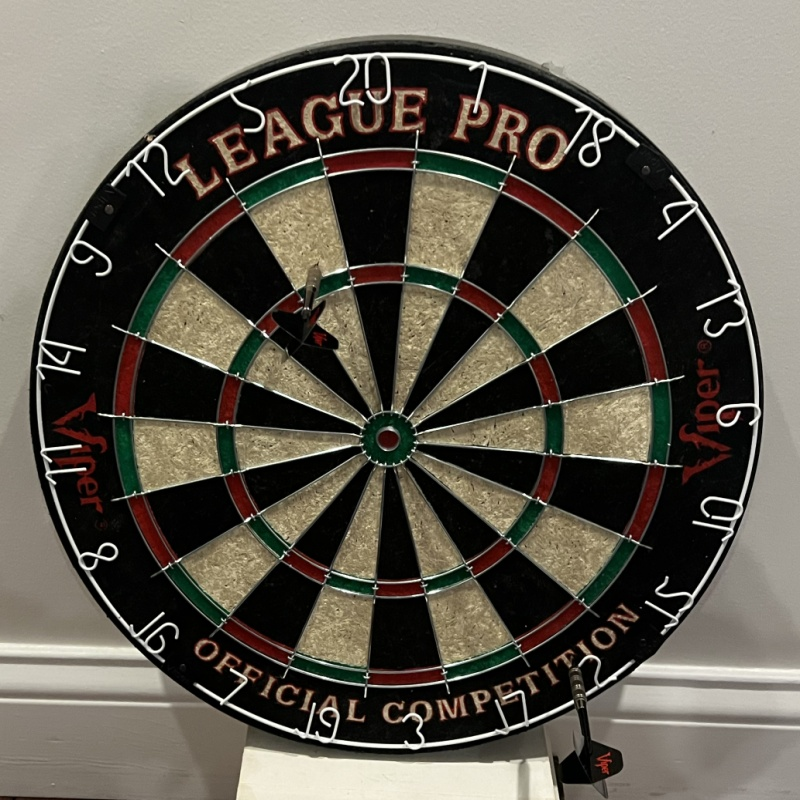dart: (565, 660, 586, 683), (300, 262, 322, 282)
eleven: (40, 445, 90, 483)
six: (716, 403, 761, 428)
three: (399, 712, 426, 748)
twenty: (330, 52, 391, 106)
